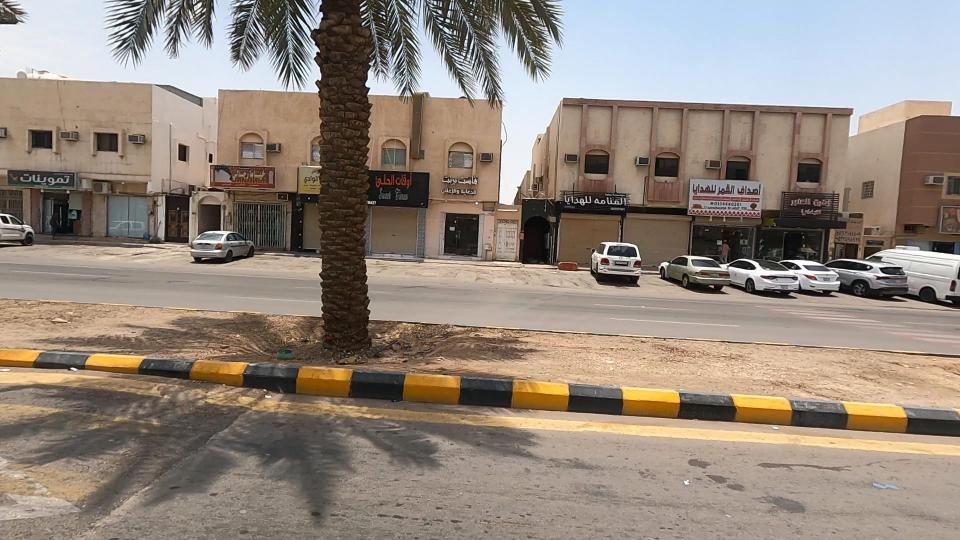GARBAGE: (246, 321, 320, 382)
